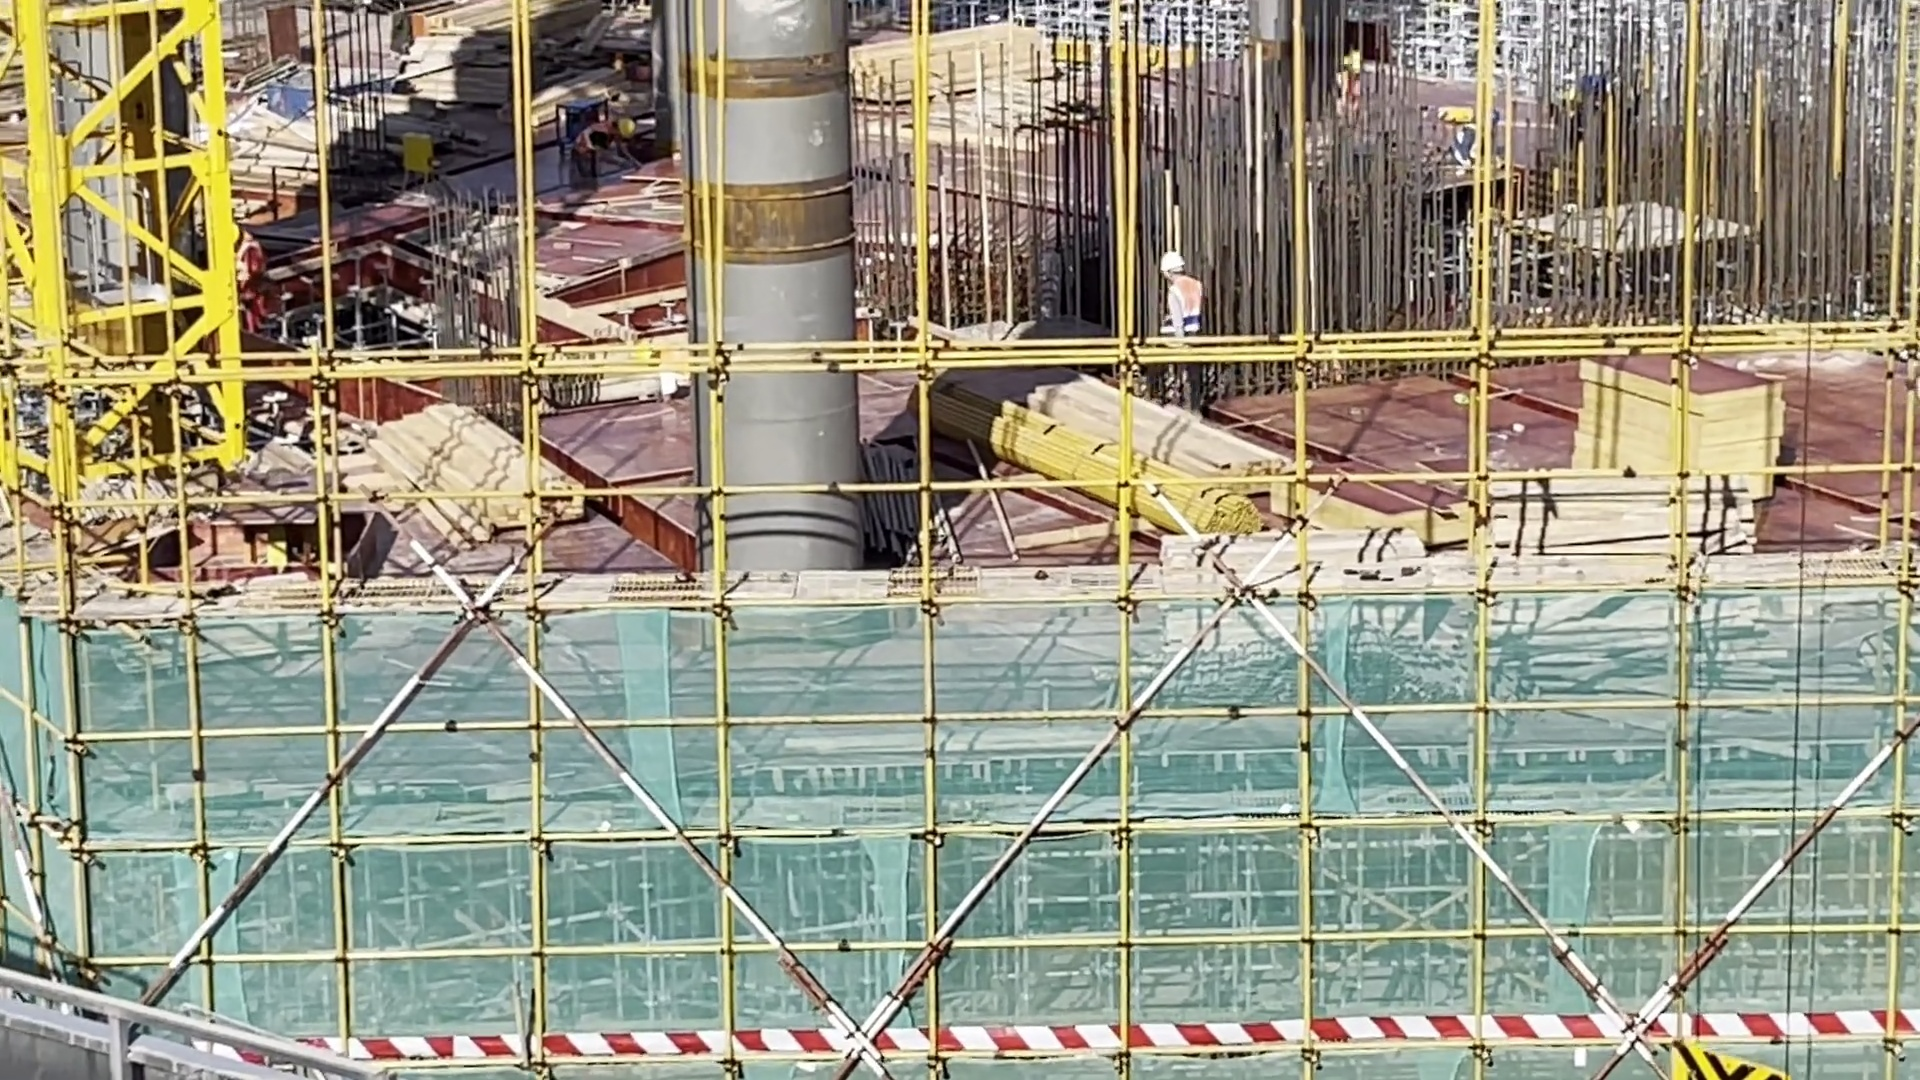helmet: (1345, 54, 1370, 76), (1146, 254, 1189, 266), (636, 337, 655, 363), (1487, 109, 1506, 132), (1600, 60, 1620, 78), (619, 119, 633, 141)
person: (1159, 240, 1226, 431), (549, 116, 667, 190), (1572, 55, 1647, 155), (234, 215, 286, 331), (1449, 106, 1519, 190), (1329, 40, 1387, 140), (646, 331, 699, 398)
vest: (1159, 279, 1211, 331), (1337, 79, 1380, 125), (581, 117, 616, 169), (246, 229, 273, 294), (1598, 86, 1638, 127), (1446, 124, 1478, 162), (674, 339, 694, 387)
